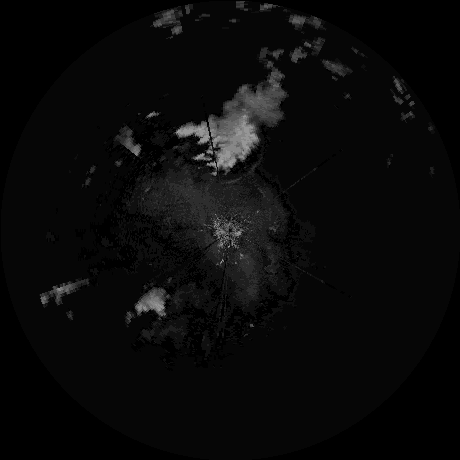frontgust: (225, 151, 267, 186)
